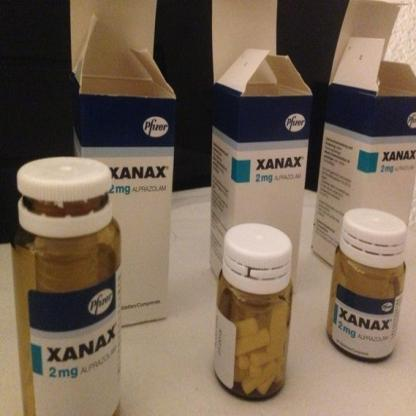jar: (12, 157, 120, 416), (208, 222, 299, 402), (325, 207, 411, 362)
